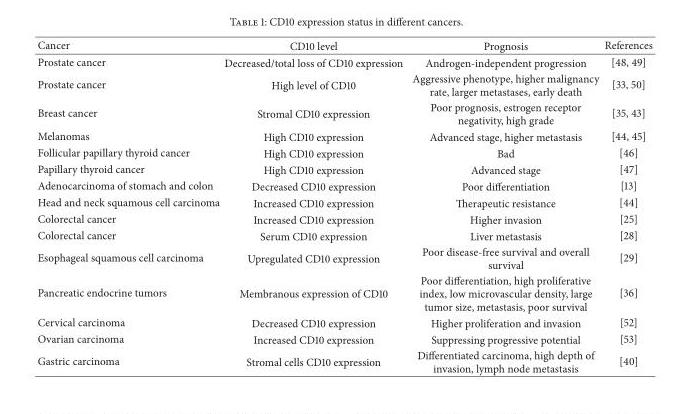table: (36, 36, 651, 375)
table column: (406, 36, 601, 375), (36, 36, 221, 375), (221, 36, 406, 375), (601, 36, 651, 375)
table column header: (36, 36, 651, 53)
table row: (36, 272, 651, 313), (36, 98, 651, 127), (36, 243, 651, 272), (36, 70, 651, 98), (36, 347, 651, 375), (36, 36, 651, 53), (36, 53, 651, 70), (36, 127, 651, 144), (36, 160, 651, 177), (36, 193, 651, 210), (36, 226, 651, 243), (36, 313, 651, 330), (36, 330, 651, 347), (36, 144, 651, 160), (36, 177, 651, 193), (36, 210, 651, 226)
